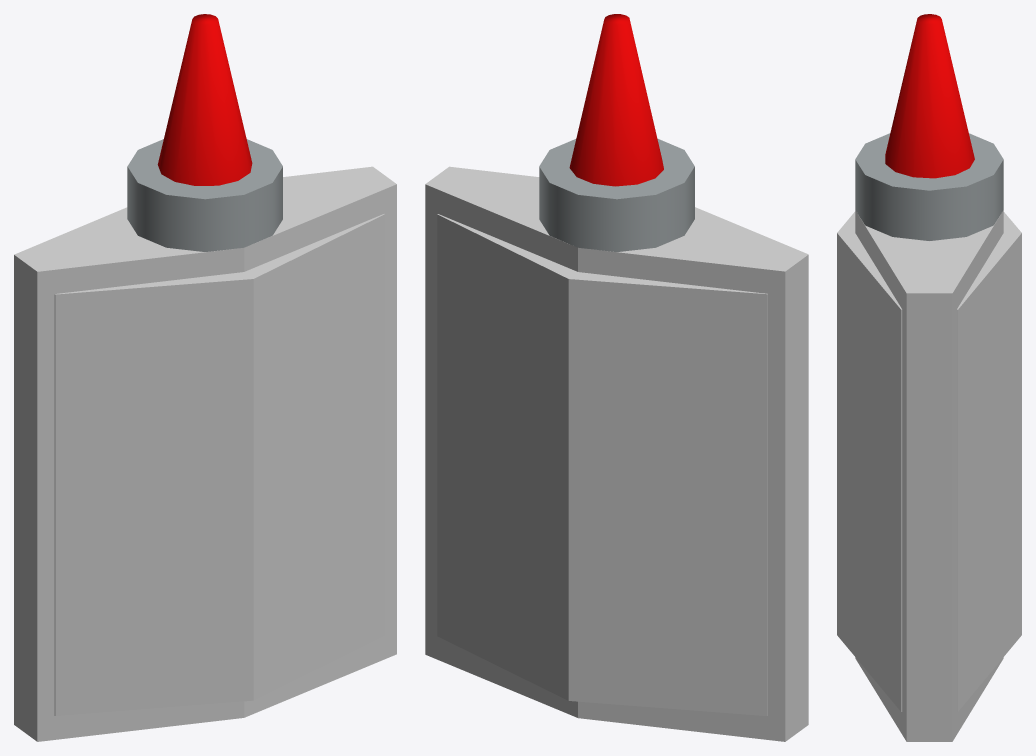
File: glue.fbx
3 renders of one model, left to right at view 1: azimuth 30°, elevation 25°; view 2: azimuth 150°, elevation 25°; view 3: azimuth 270°, elevation 25°, orthographic. The views are drawn at different scales.
Visible parts, largest first — view 1: Cube, Cylinder, Cone; view 2: Cube, Cylinder, Cone; view 3: Cube, Cylinder, Cone.
Boxes of the visible parts, x1,y1,x2,y2 form: Cube: (14,166,396,741); Cylinder: (127,139,282,251); Cone: (157,14,252,185); Cube: (425,166,808,741); Cylinder: (539,138,694,251); Cone: (569,14,663,186); Cube: (837,210,1021,741); Cylinder: (855,133,1003,240); Cone: (885,14,974,178).
Bounding box in the file's own units: 160 × 285 × 74.7.
